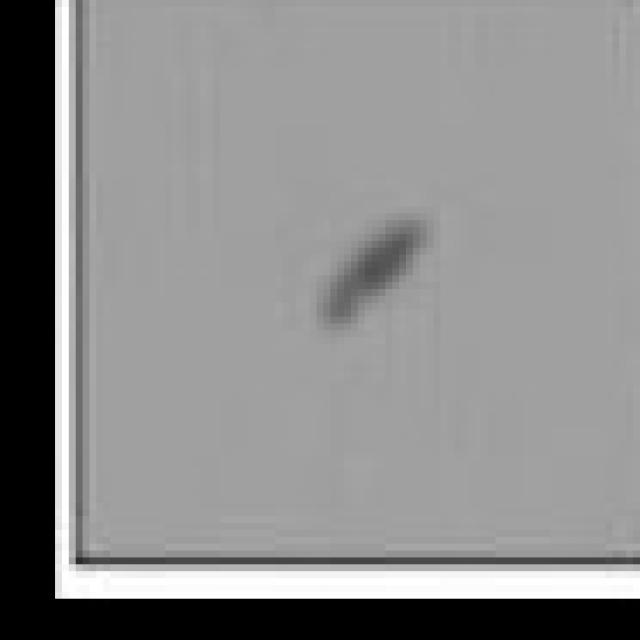Defect5: (286, 194, 468, 350)
